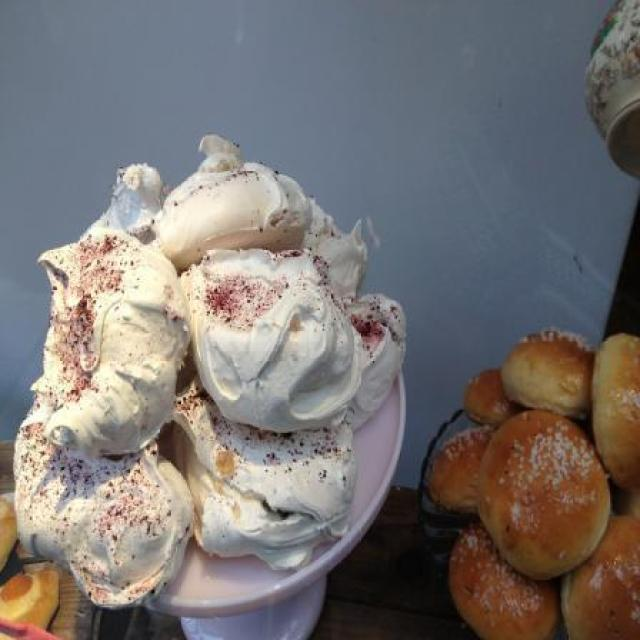Ice Cream: (24, 134, 410, 616)
